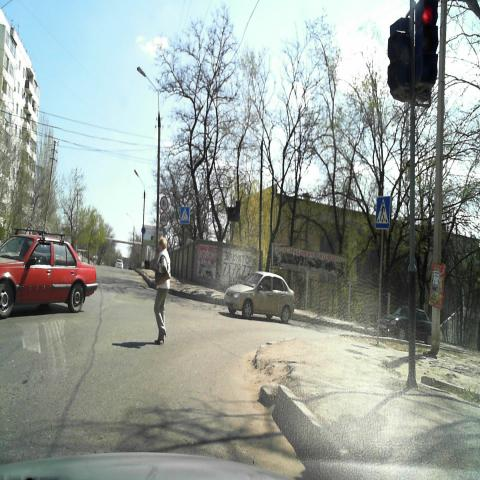3_11: (160, 195, 168, 211)
